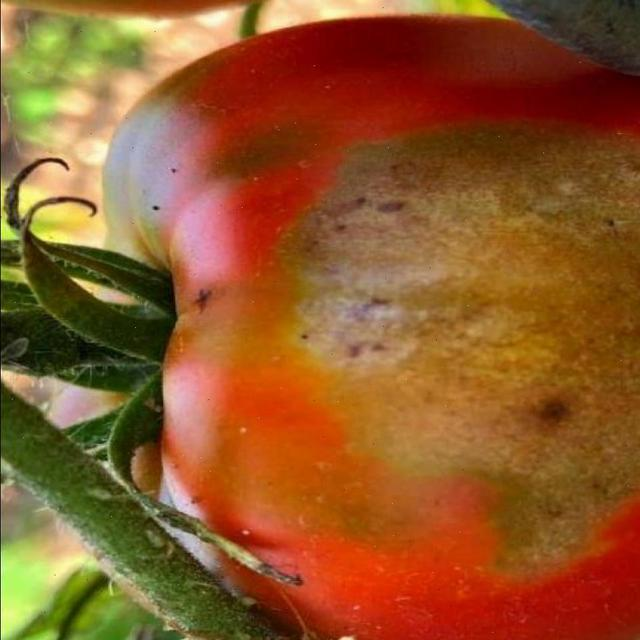Sunscald Fruit: (156, 80, 427, 380)
